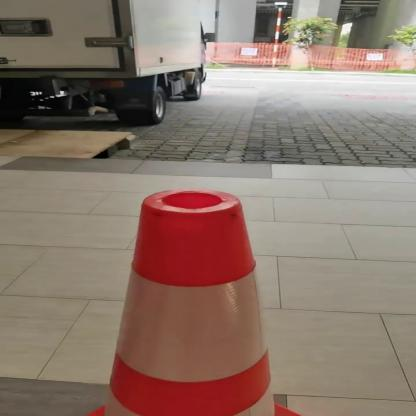cone: (66, 183, 348, 416)
